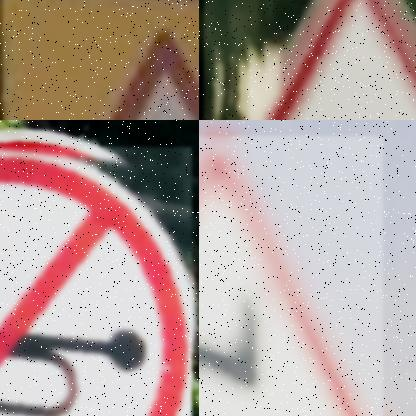No Horns: (0, 148, 192, 416)
Speed Breaker Ahead: (248, 0, 416, 120)
Zigzag Road Ahead: (199, 137, 365, 416)
